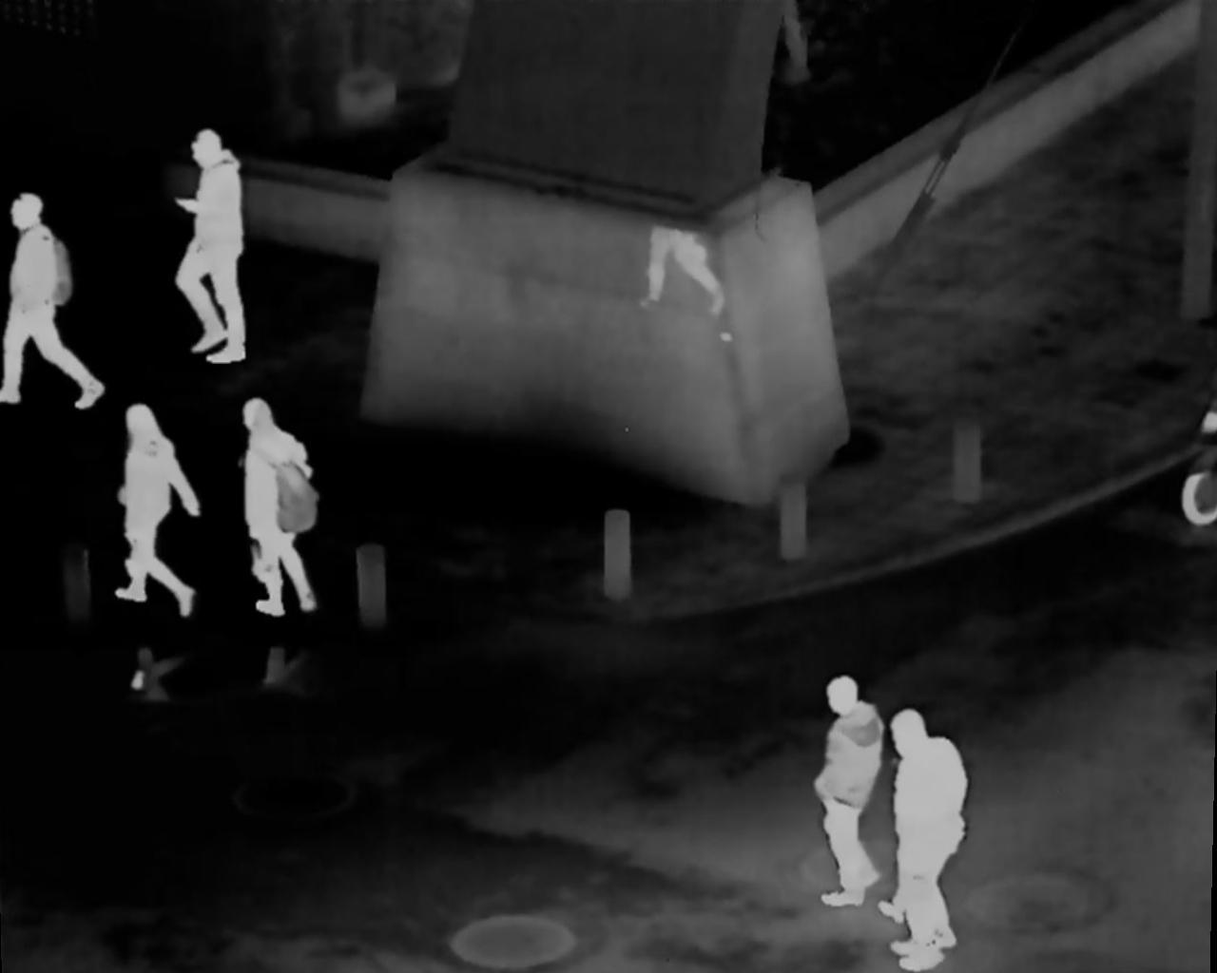person: (5, 193, 110, 413), (882, 709, 962, 969), (107, 405, 202, 617), (808, 677, 884, 914), (241, 397, 317, 614), (178, 129, 246, 368)
